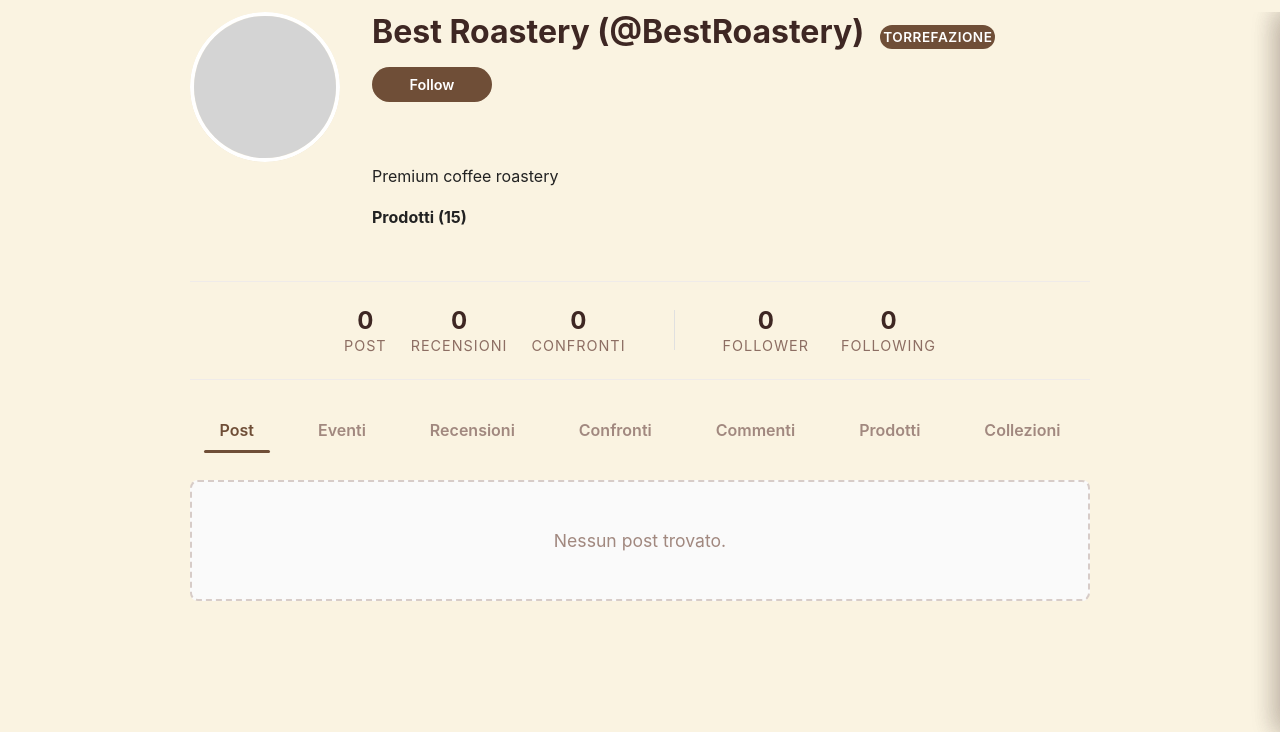
Profile Page › Tab Switching › shows products tab for Torrefazione role
Click the button "Prodotti" at (890, 430), box x1=843 y1=412 x2=936 y2=448
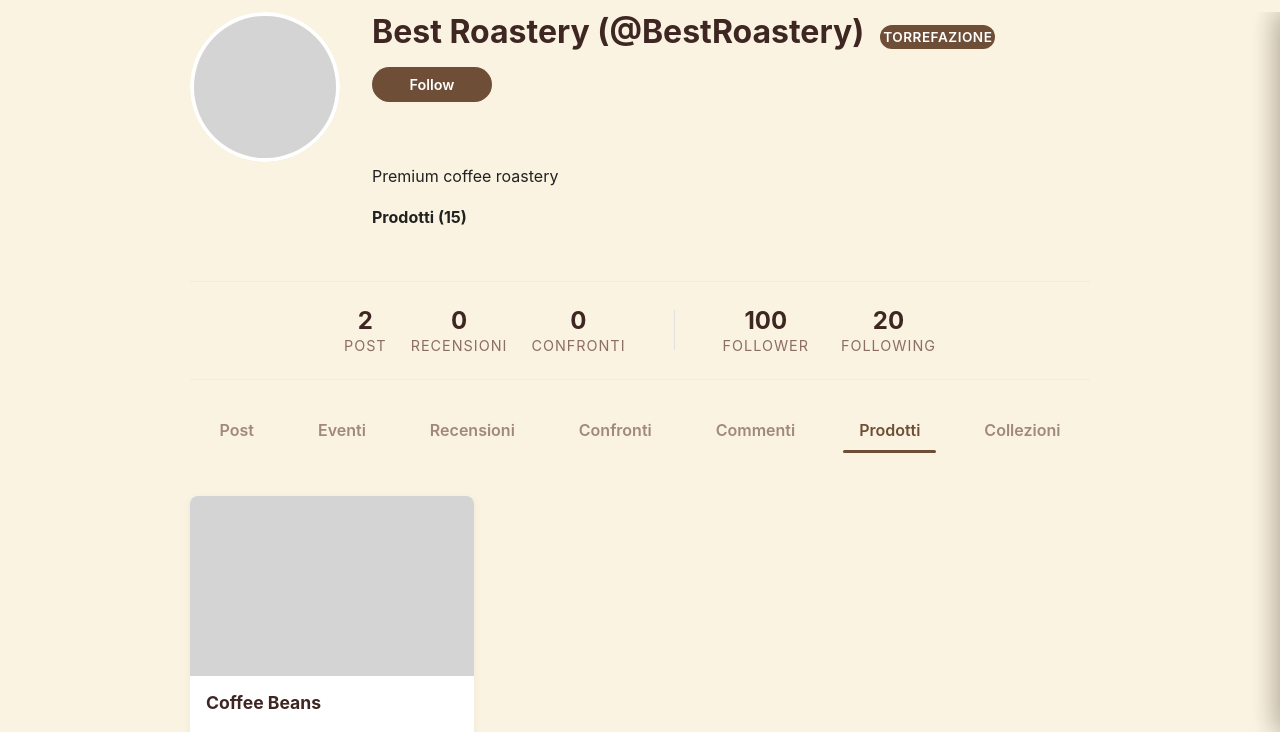
Result: the heading "Coffee Beans" is shown at x1=206 y1=692 x2=321 y2=712
